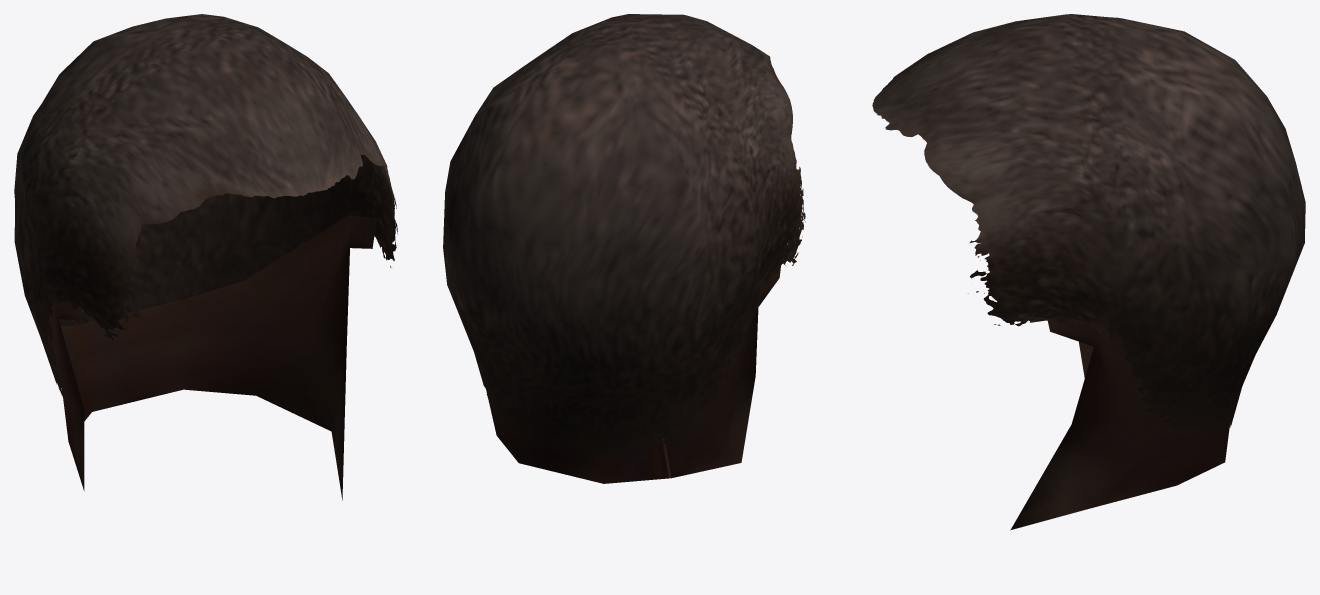
The model's file is fra-kante.glb.
3 renders of one model, left to right at view 1: azimuth 30°, elevation 25°; view 2: azimuth 150°, elevation 25°; view 3: azimuth 270°, elevation 25°, orthographic. The views are drawn at different scales.
Parts seen in each view (by area): view 1: hair; view 2: hair; view 3: hair.
Part boxes in pixels (box(x1,y1,x2,y2)): hair: box(14, 14, 397, 500); hair: box(443, 14, 805, 483); hair: box(872, 14, 1305, 530).
Bounding box in the file's own units: 0.1485 × 0.2568 × 0.1922.
Materials: 2 (2 with a texture image).
